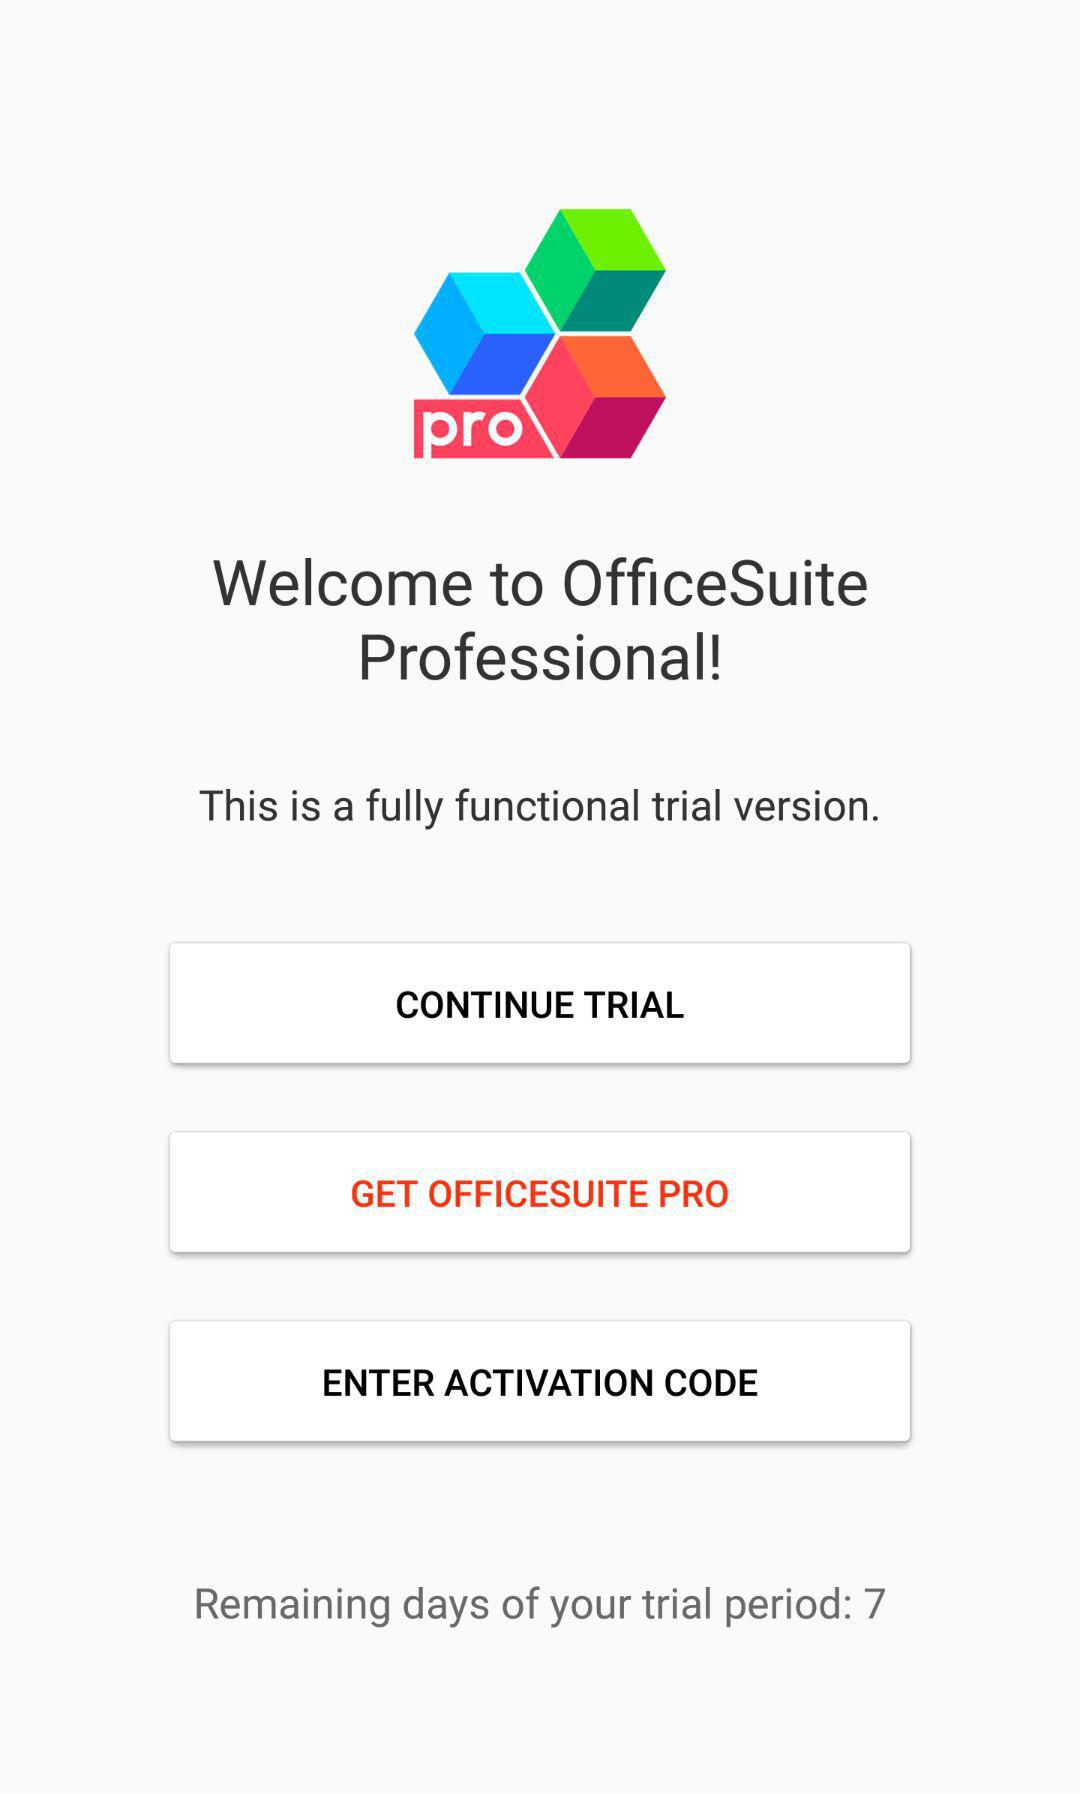Image: (413, 208, 667, 461)
Text: (213, 556, 869, 682), (199, 786, 880, 830), (196, 1586, 887, 1629)
TextButton: (169, 1130, 912, 1255), (169, 942, 912, 1066), (169, 1320, 912, 1443)
